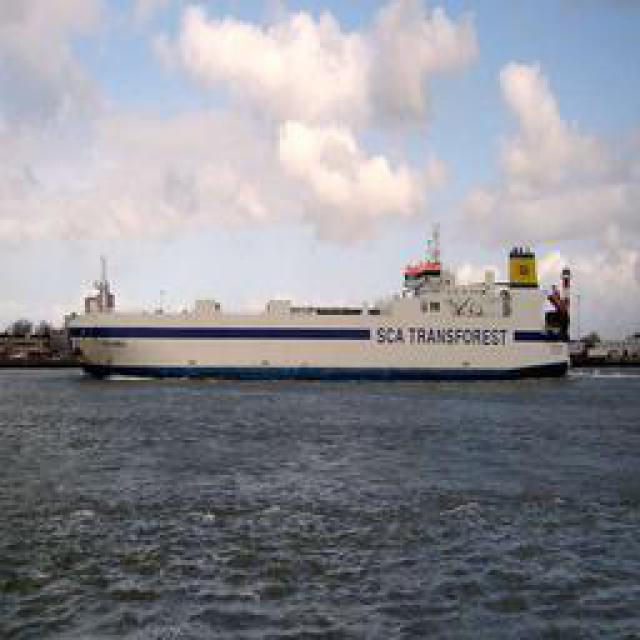Ship: (70, 245, 590, 383)
